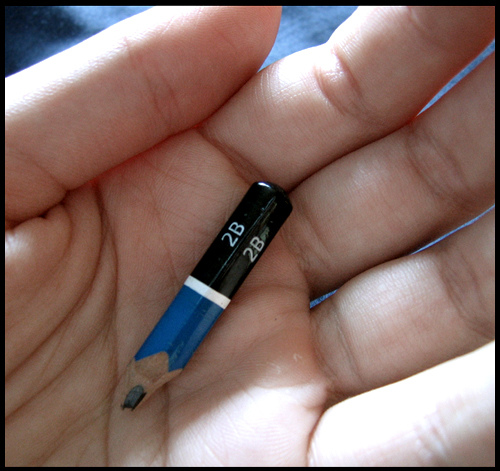pen_tip: (114, 336, 197, 425)
